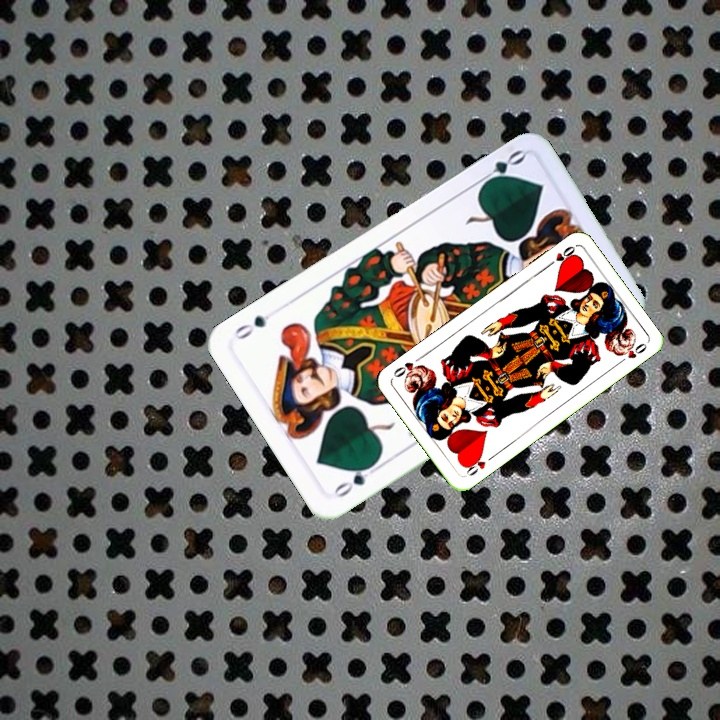GO: (473, 145, 528, 190), (329, 458, 382, 501)
HO: (542, 242, 578, 271), (461, 451, 497, 479)
